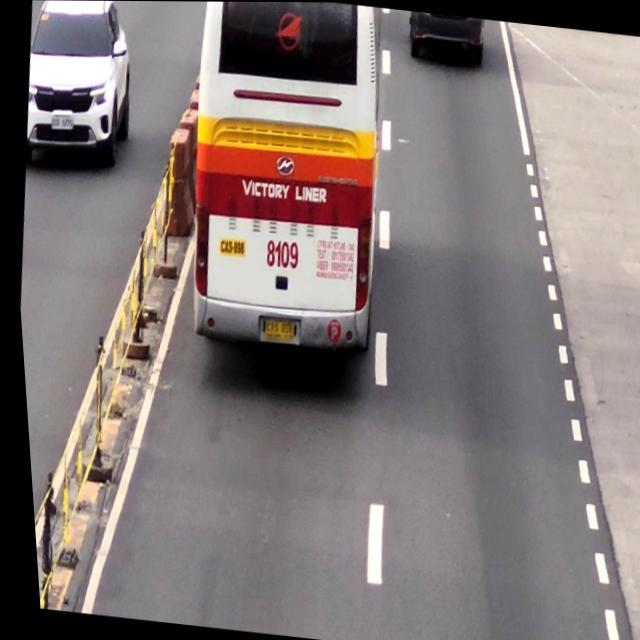Bus: (163, 1, 403, 368)
Car: (403, 10, 488, 69)
License-Plate: (257, 315, 292, 343)
